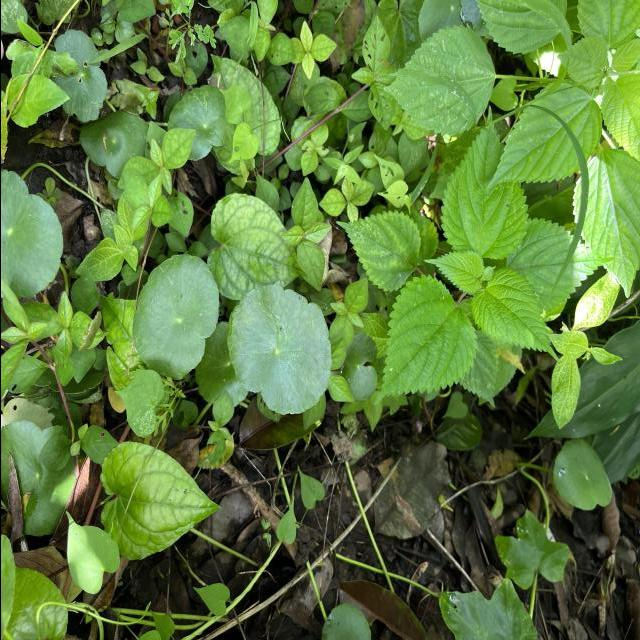Bacopa monnieri: (224, 283, 334, 418), (130, 252, 220, 382), (0, 168, 67, 304)
